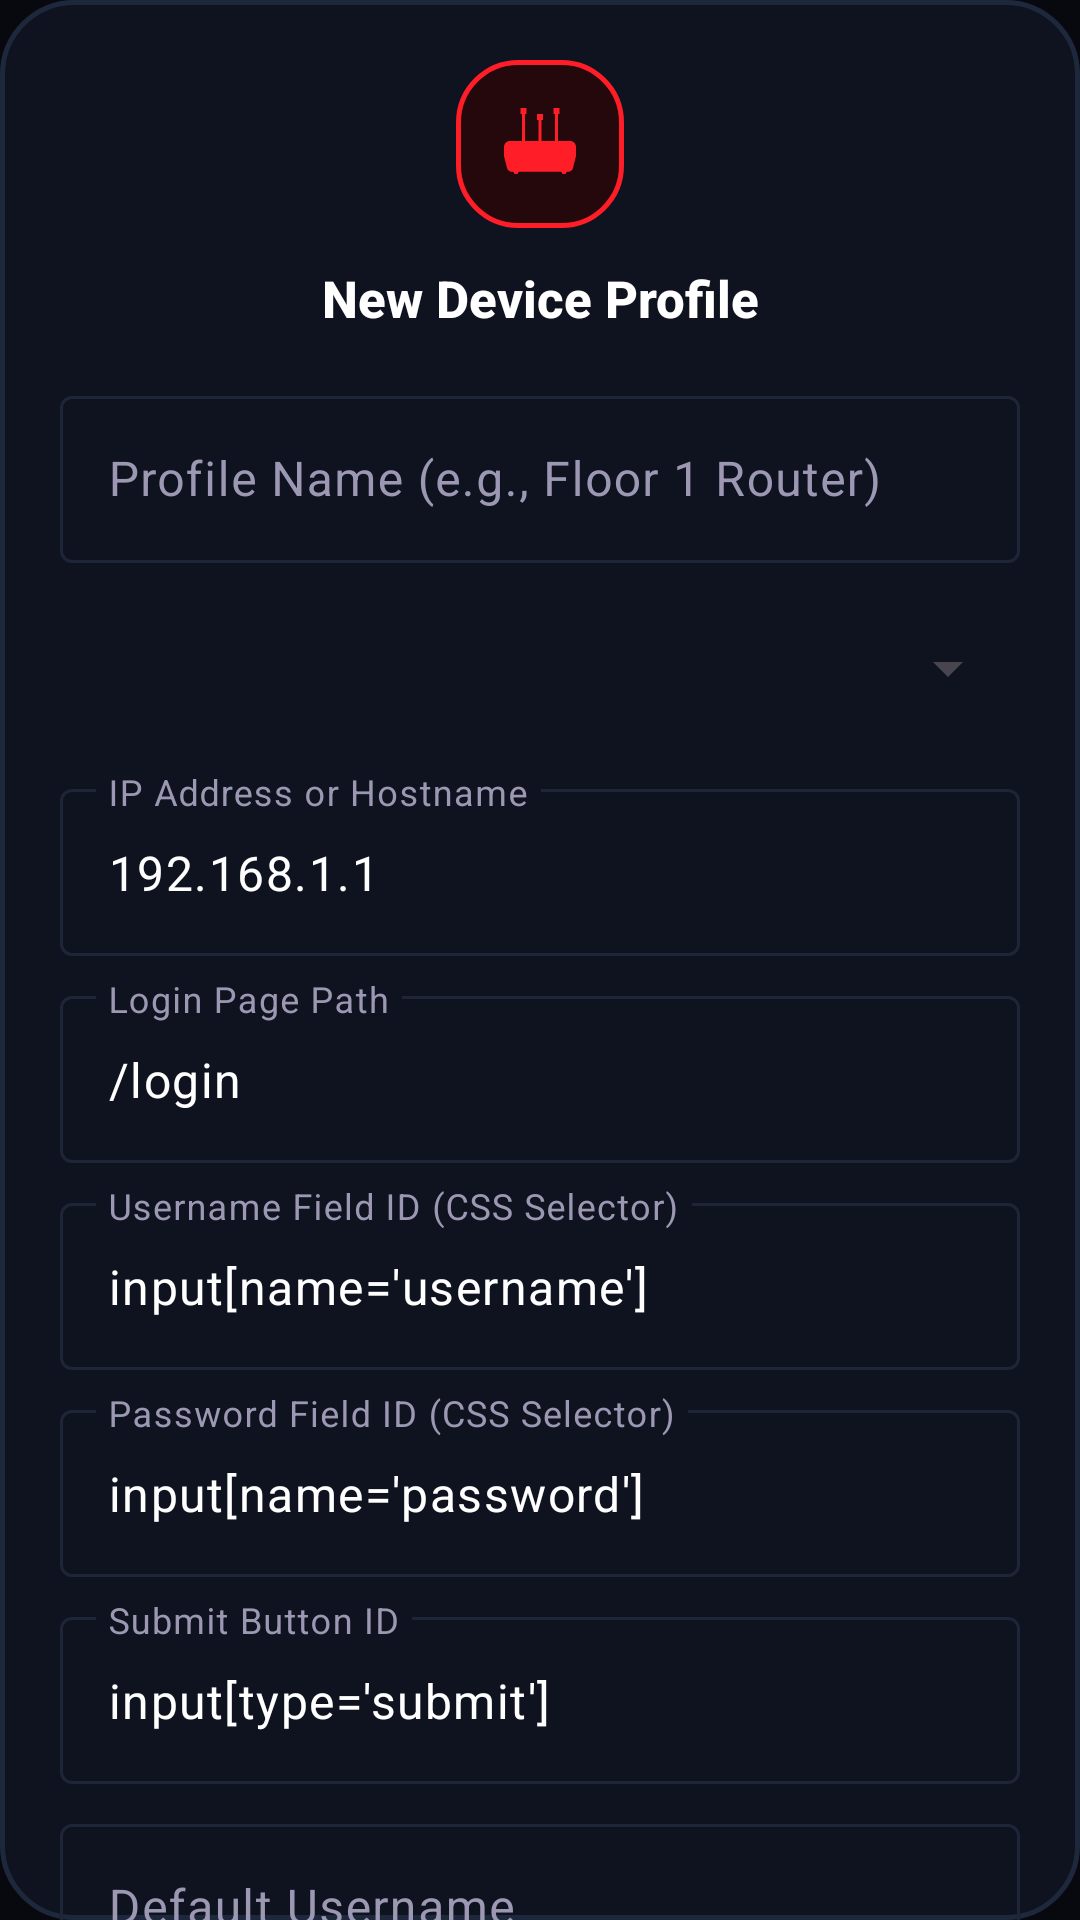

Named icons in this screenshot (1080×1920) and their centers, (x,y):
Router Icon: (540,141)
